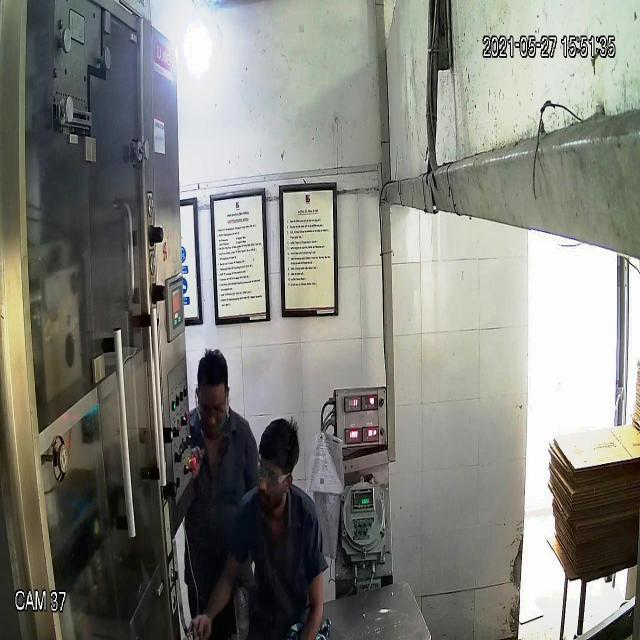glasses: (253, 458, 295, 490)
